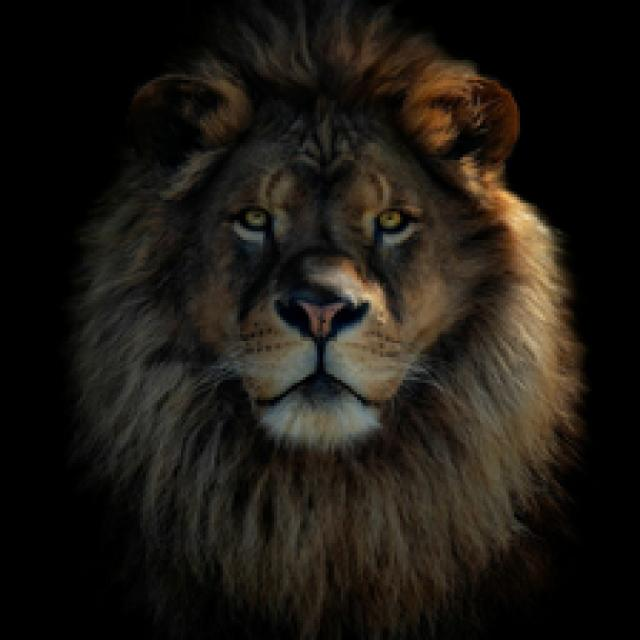lion: (76, 0, 575, 640)
